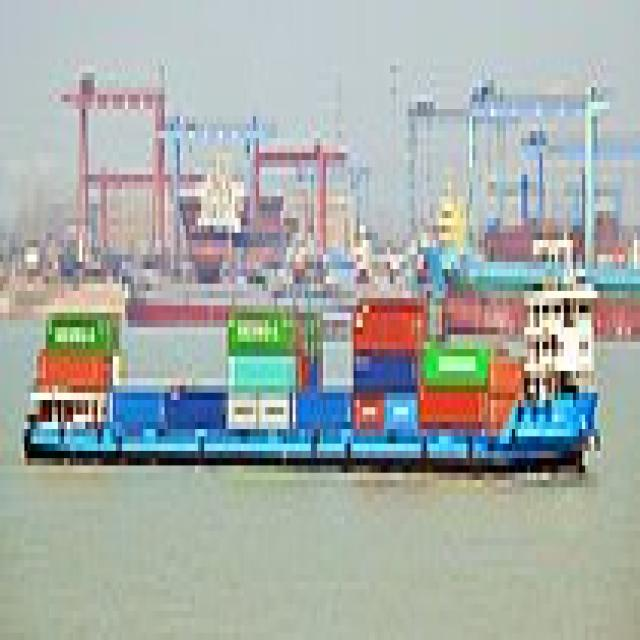Cargo: (16, 218, 600, 473)
